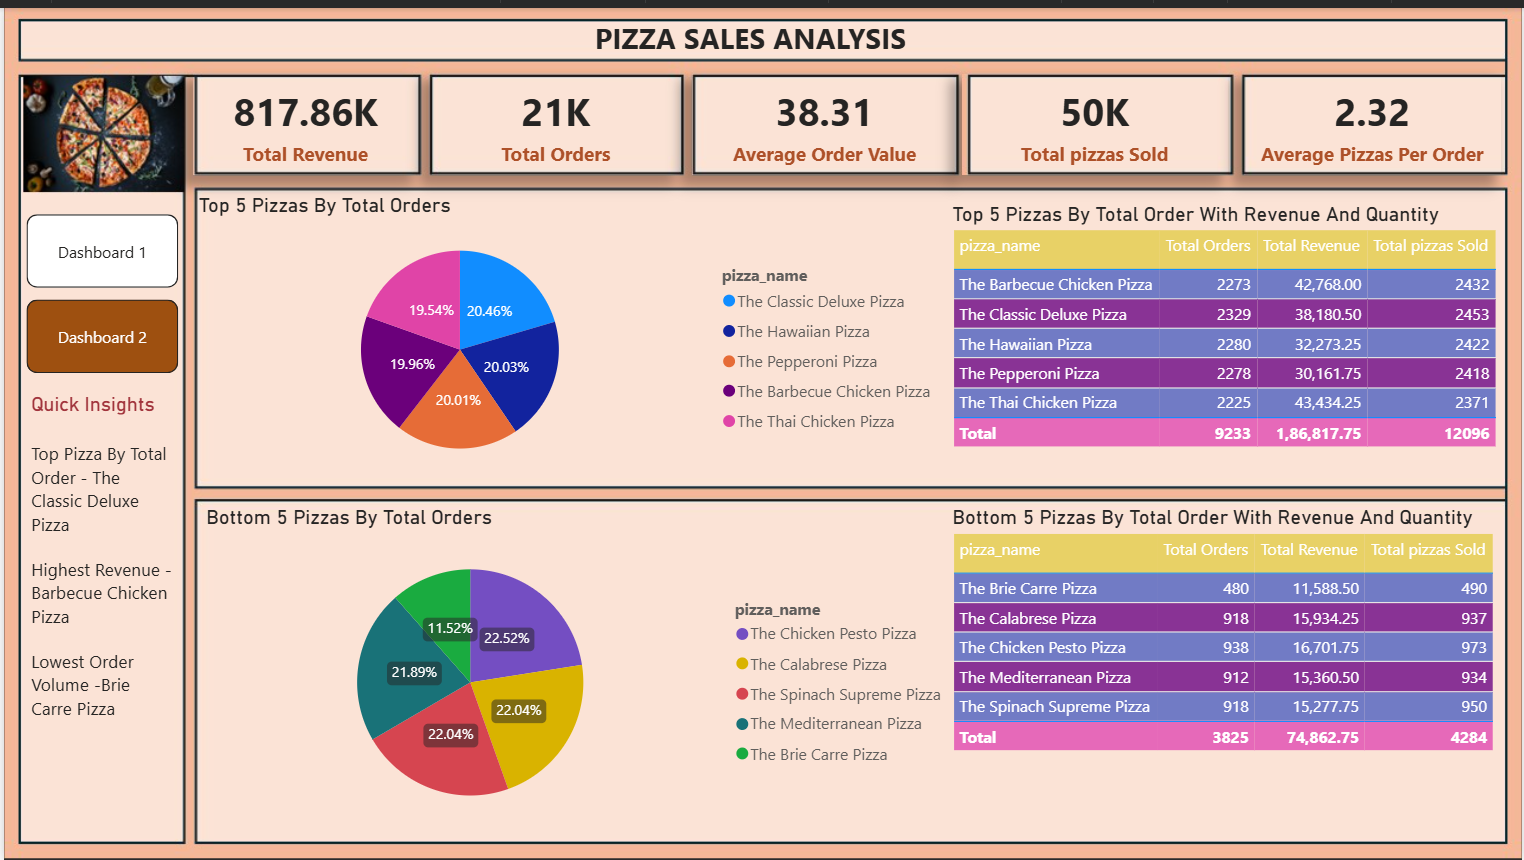

This screenshot's page, from the dashboard's own definition file:
{"tool":"powerbi","page":{"name":"Dashboard 2","canvas":[1280,720],"ordinal":1},"visuals":[{"type":"card","fields":{"Values":["public fact_sales.Total Revenue"]},"box":[159.2,56.3,190.7,85.1],"z":0},{"type":"card","fields":{"Values":["public fact_sales.Total Orders"]},"box":[360.9,56.3,209.9,85.1],"z":1000},{"type":"card","fields":{"Values":["public fact_sales.Average Order Value"]},"box":[580.4,56.3,225,85.1],"z":2000},{"type":"card","fields":{"Values":["public fact_sales.Average Pizzas Per Order"]},"box":[1045.6,56.3,216.8,85.1],"z":3000},{"type":"card","fields":{"Values":["public fact_sales.Total pizzas Sold"]},"box":[808.2,56.3,225,85.1],"z":4000},{"type":"textbox","box":[493.5,4.2,402.8,42.2],"z":5000},{"type":"pieChart","title":"Top 5 Pizzas By Total Orders","fields":{"Category":["public dim_pizza.pizza_name"],"Y":["public fact_sales.Total Orders"]},"box":[159,156.3,636.2,245.4],"z":6000},{"type":"tableEx","title":"Top 5 Pizzas By Total Order With Revenue And Quantity","fields":{"Values":["public dim_pizza.pizza_name","public fact_sales.Total Orders","public fact_sales.Total Revenue","public fact_sales.Total pizzas Sold"]},"box":[795.2,163.2,478.5,231.7],"z":7000},{"type":"pieChart","title":"Bottom 5 Pizzas By Total Orders","fields":{"Category":["public dim_pizza.pizza_name"],"Y":["public fact_sales.Total Orders"]},"box":[165.9,419.5,638.9,279.7],"z":8000},{"type":"tableEx","title":"Bottom 5 Pizzas By Total Order With Revenue And Quantity","fields":{"Values":["public dim_pizza.pizza_name","public fact_sales.Total Orders","public fact_sales.Total Revenue","public fact_sales.Total pizzas Sold"]},"box":[795.2,419.5,467.5,249.5],"z":9000},{"type":"pageNavigator","box":[19.2,174.1,128.9,135.7],"z":10000},{"type":"textbox","title":"Quick Insights","box":[17.8,323.6,130.2,374.3],"z":10001}]}

Visuals, with their boxes in screenshot pixels (x1, y1, x2, y2), scaled from the page's 1280x720 canvas onto the 1524x860 screenshot:
card - public fact_sales.Total Revenue: <box>190,67,417,169</box>
card - public fact_sales.Total Orders: <box>430,67,680,169</box>
card - public fact_sales.Average Order Value: <box>691,67,959,169</box>
card - public fact_sales.Average Pizzas Per Order: <box>1245,67,1503,169</box>
card - public fact_sales.Total pizzas Sold: <box>962,67,1230,169</box>
textbox: <box>588,5,1067,55</box>
"Top 5 Pizzas By Total Orders" pieChart: <box>189,187,947,480</box>
"Top 5 Pizzas By Total Order With Revenue And Quantity" tableEx: <box>947,195,1516,472</box>
"Bottom 5 Pizzas By Total Orders" pieChart: <box>198,501,958,835</box>
"Bottom 5 Pizzas By Total Order With Revenue And Quantity" tableEx: <box>947,501,1503,799</box>
pageNavigator: <box>23,208,176,370</box>
"Quick Insights" textbox: <box>21,387,176,834</box>
